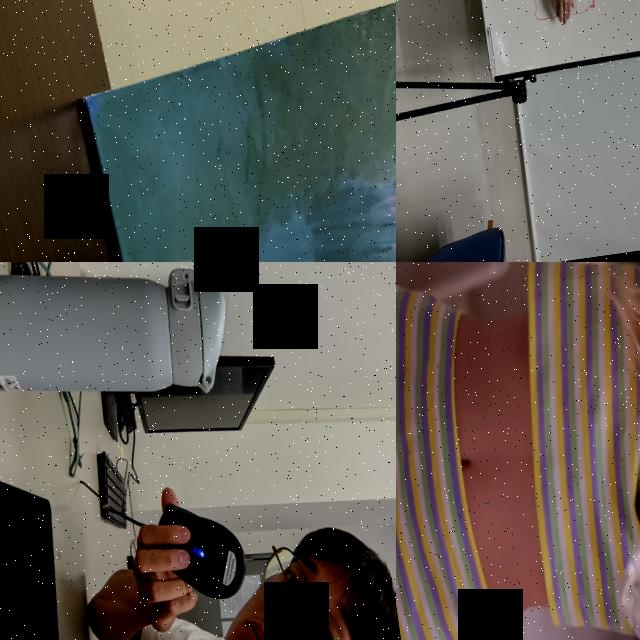bottle: (596, 399, 640, 640)
